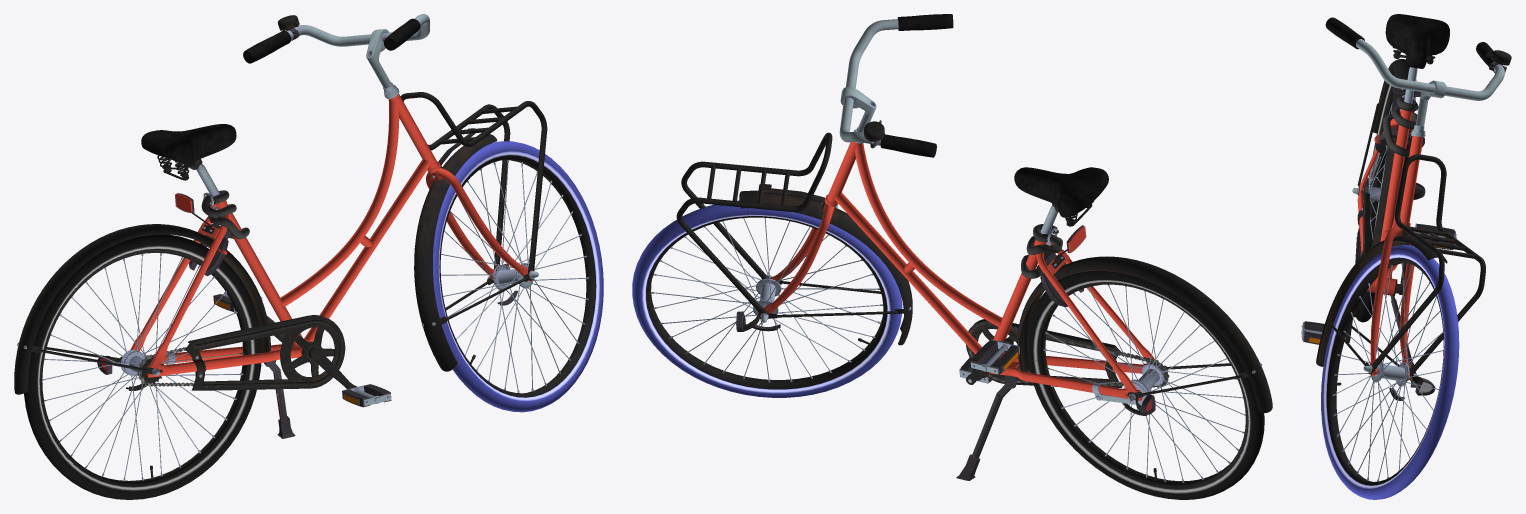
3 views of the same model, side by side, from view 1: azimuth 30°, elevation 25°; view 2: azimuth 150°, elevation 25°; view 3: azimuth 270°, elevation 25° (orthographic). The views are drawn at different scales.
Parts seen in each view (by area): view 1: Object_7, Object_3, Object_6, Object_10, Object_4, Object_2, Object_8, Object_9; view 2: Object_7, Object_3, Object_6, Object_2, Object_4, Object_10, Object_8, Object_9; view 3: Object_3, Object_7, Object_6, Object_4, Object_2, Object_10, Object_8, Object_9.
Part boxes in pixels (x1,y1,x2,y2): Object_7: (14, 83, 438, 499); Object_3: (243, 14, 603, 412); Object_6: (28, 82, 440, 486); Object_10: (42, 217, 249, 481); Object_4: (279, 22, 589, 392); Object_2: (245, 18, 596, 397); Object_8: (39, 161, 439, 438); Object_9: (24, 85, 395, 473); Object_7: (827, 129, 1272, 499); Object_3: (632, 15, 953, 397); Object_6: (825, 127, 1258, 489); Object_2: (646, 14, 953, 389); Object_4: (650, 100, 896, 382); Object_10: (1017, 231, 1245, 483); Object_8: (826, 194, 1240, 480); Object_9: (854, 129, 1261, 479); Object_3: (1317, 37, 1511, 499); Object_7: (1301, 50, 1456, 387); Object_6: (1302, 14, 1454, 386); Object_4: (1316, 57, 1509, 481); Object_2: (1316, 17, 1509, 485); Object_10: (1361, 102, 1425, 239); Object_8: (1302, 87, 1455, 387); Object_9: (1304, 60, 1454, 343).
Bounding box in the file's own units: 181 × 118 × 57.02.
Materials: 2 (2 with a texture image).
